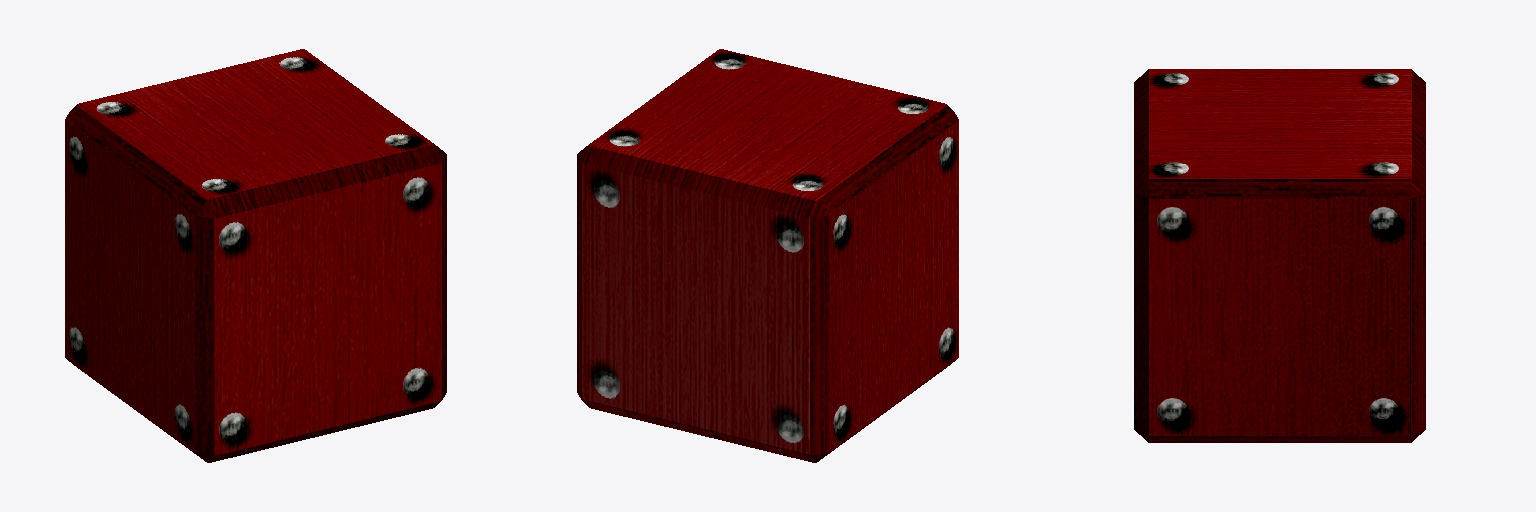
3 views of the same model, side by side, from view 1: azimuth 30°, elevation 25°; view 2: azimuth 150°, elevation 25°; view 3: azimuth 270°, elevation 25° (orthographic).
Visible parts, largest first — view 1: default; view 2: default; view 3: default.
Part boxes in pixels (x1,y1,x2,y2): default: (65, 49, 446, 462); default: (577, 49, 958, 462); default: (1134, 69, 1425, 442).
Bounding box in the file's own units: 1 × 1 × 1.
1 materials, 1 textured.